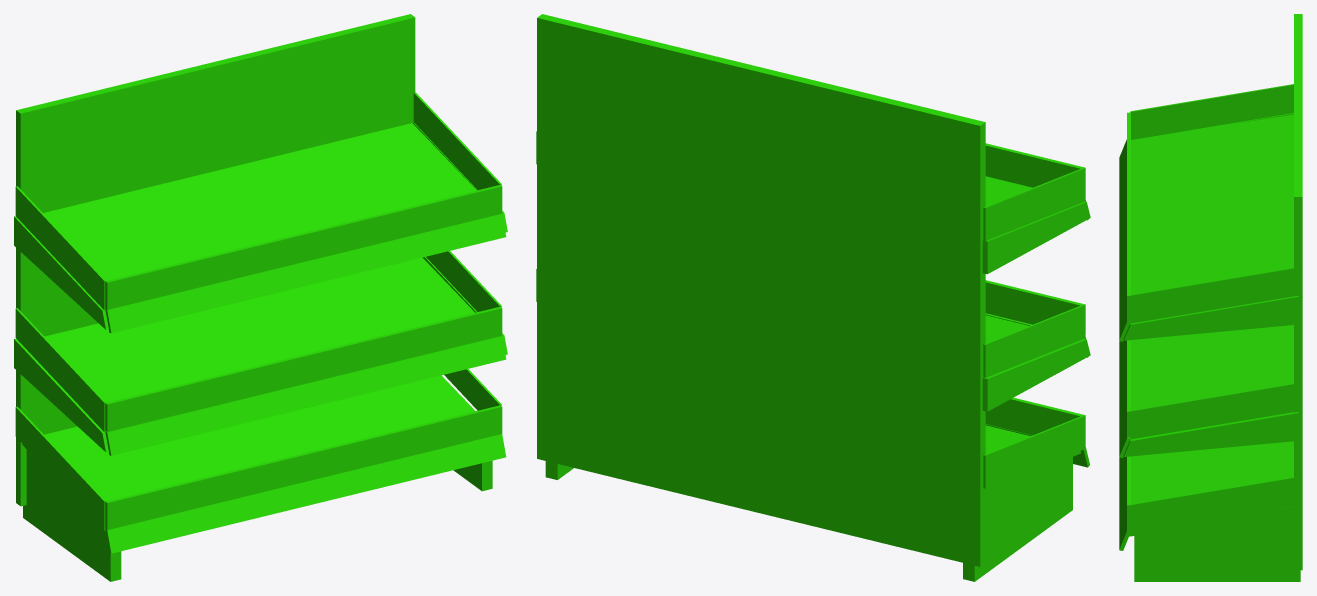
Rendered from Shop_Shelf_A_04_Lod0.fbx.
3 views of the same model, side by side, from view 1: azimuth 30°, elevation 25°; view 2: azimuth 150°, elevation 25°; view 3: azimuth 270°, elevation 25° (orthographic). The views are drawn at different scales.
Visible parts, largest first — view 1: Shop_Shelf_A_04_Lod0; view 2: Shop_Shelf_A_04_Lod0; view 3: Shop_Shelf_A_04_Lod0.
Part boxes in pixels (left/top/right/bottom): Shop_Shelf_A_04_Lod0: left=14, top=14, right=507, bottom=581; Shop_Shelf_A_04_Lod0: left=536, top=14, right=1090, bottom=581; Shop_Shelf_A_04_Lod0: left=1119, top=14, right=1302, bottom=581.
Bounding box in the file's own units: 137 × 133 × 56.86.
